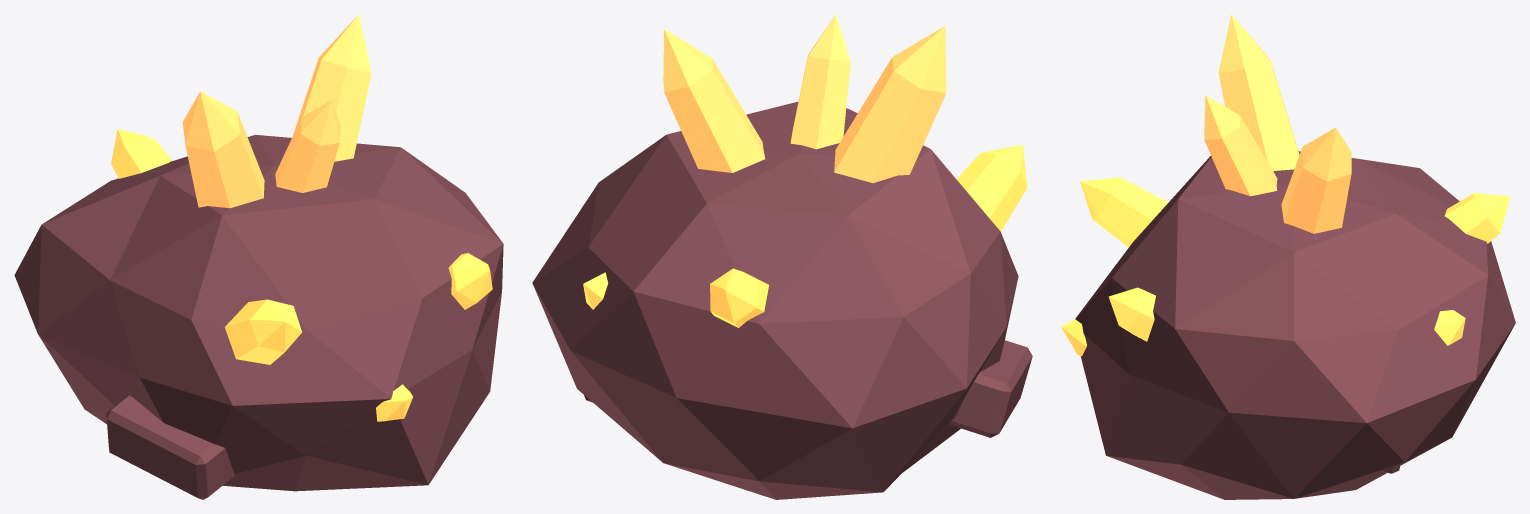
Rendered from Ember_Pilot.fbx.
3 views of the same model, side by side, from view 1: azimuth 30°, elevation 25°; view 2: azimuth 150°, elevation 25°; view 3: azimuth 270°, elevation 25° (orthographic). The views are drawn at different scales.
Visible parts, largest first — view 1: RockBody, TraitCrest, CoreShards; view 2: RockBody, TraitCrest, CoreShards; view 3: RockBody, TraitCrest, CoreShards.
Part boxes in pixels (x1,y1,x2,y2): RockBody: [14, 134, 503, 499]; TraitCrest: [182, 14, 371, 208]; CoreShards: [111, 129, 492, 421]; RockBody: [532, 101, 1032, 499]; TraitCrest: [663, 14, 946, 183]; CoreShards: [583, 144, 1027, 327]; RockBody: [1075, 151, 1515, 499]; TraitCrest: [1204, 14, 1351, 233]; CoreShards: [1061, 177, 1510, 356].
Bounding box in the file's own units: 3.48 × 3.31 × 3.47.
